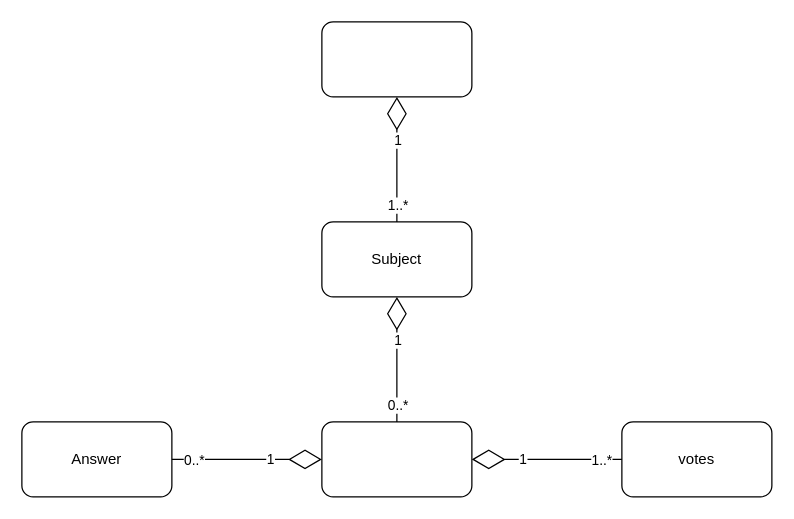
Image size: 794x519. Some labels were removed from this diagram. Here are the shapes that lost their labels. From the top down, the centre of each, then its label:
At (396,59): "Department".
At (396,459): "Question".
